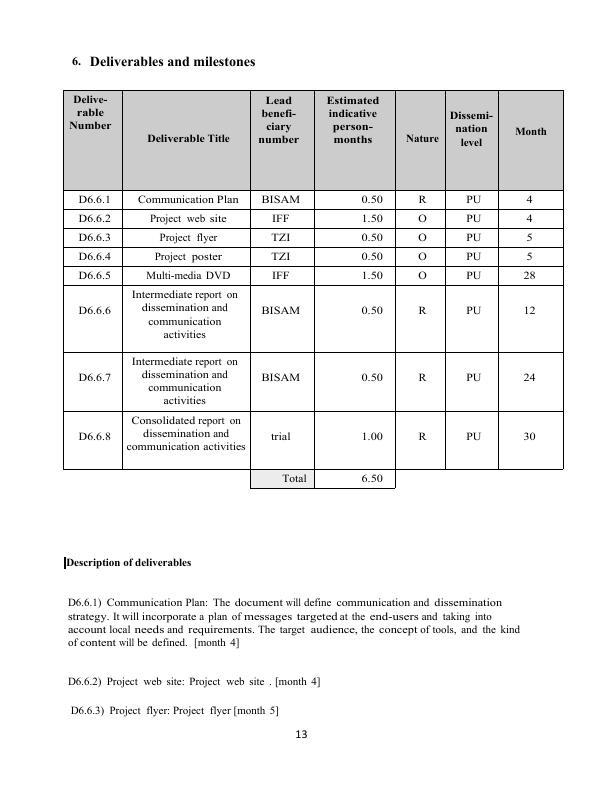table: (62, 87, 572, 493)
text: (66, 594, 527, 654), (65, 673, 324, 691), (67, 700, 281, 720), (69, 55, 258, 72), (62, 556, 195, 573)
